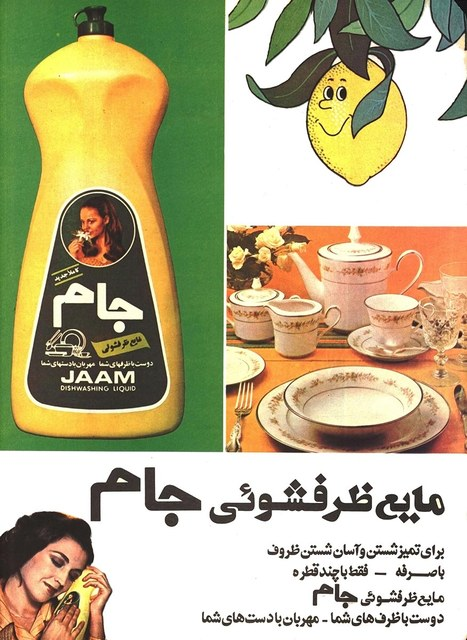Colin Glass Cleaner: (23, 32, 444, 608)
